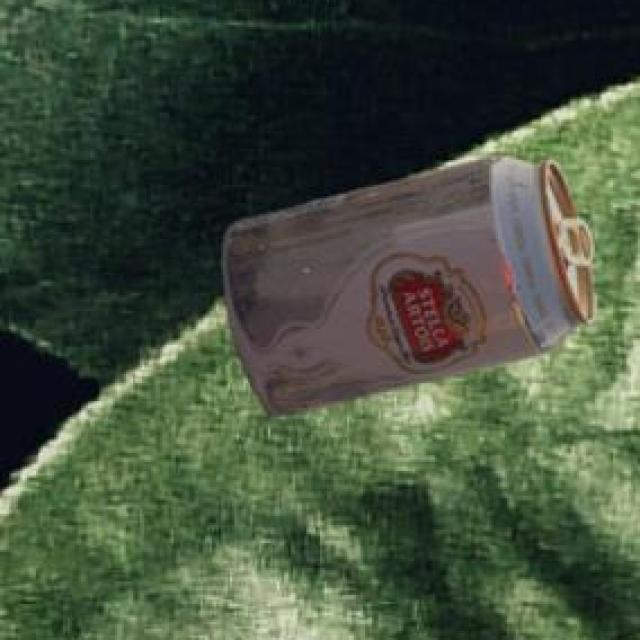logam: (226, 159, 598, 418)
